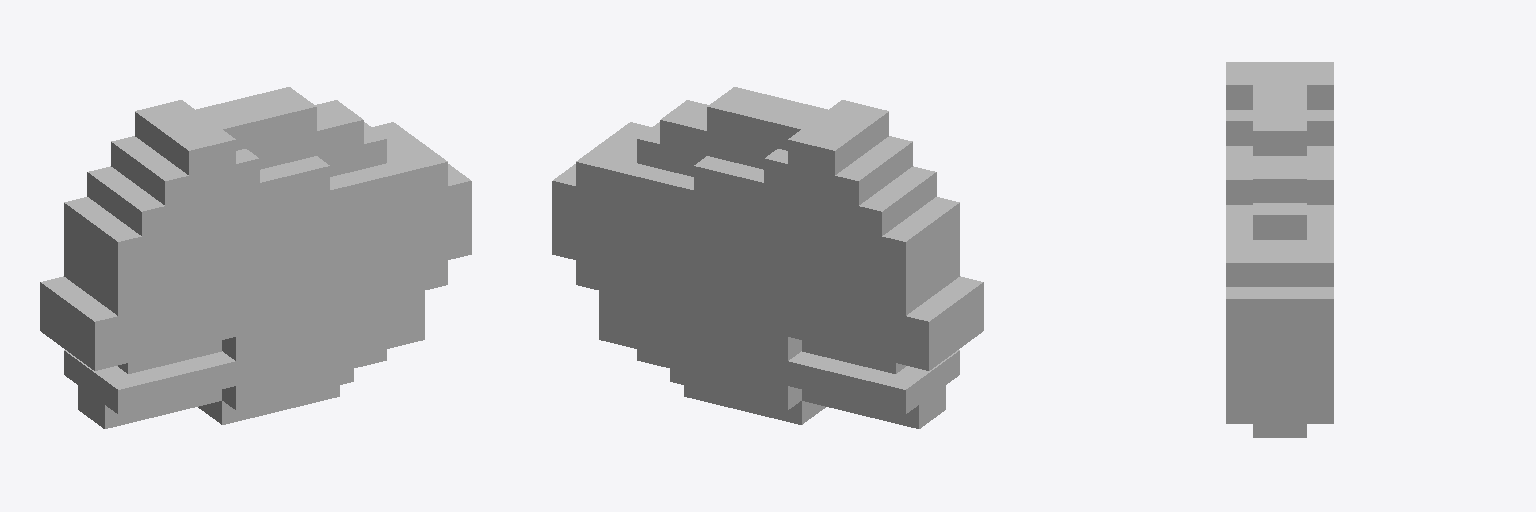
Rendered from FlappyBird2.obj.
3 views of the same model, side by side, from view 1: azimuth 30°, elevation 25°; view 2: azimuth 150°, elevation 25°; view 3: azimuth 270°, elevation 25° (orthographic).
Visible parts, largest first — view 1: ObjObject; view 2: ObjObject; view 3: ObjObject.
Boxes of the visible parts, x1,y1,x2,y2 form: ObjObject: [40, 87, 471, 428]; ObjObject: [552, 87, 983, 428]; ObjObject: [1226, 62, 1333, 437].
Size of the model in its own units: 1.6 by 1.2 by 0.4.